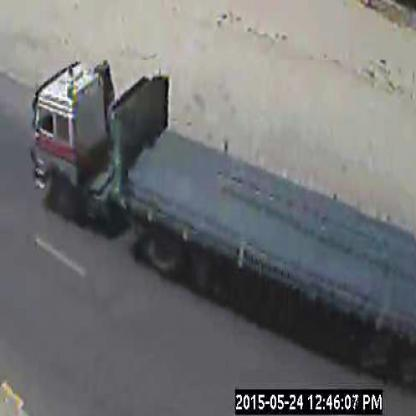container: (36, 61, 416, 337)
